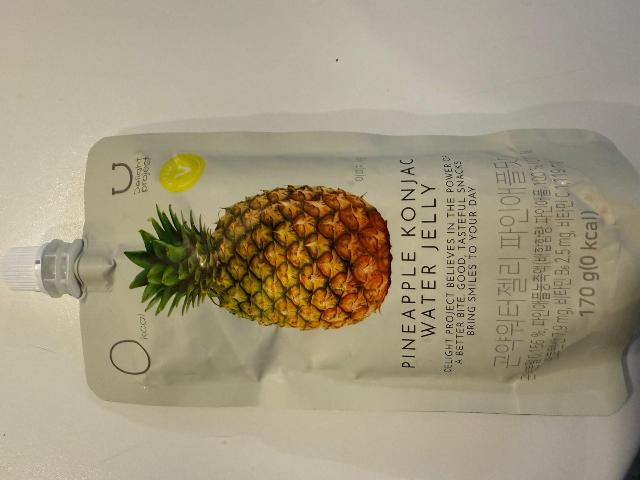Kagit: (84, 145, 640, 408)
Plastik: (1, 240, 42, 292), (42, 247, 78, 292)
